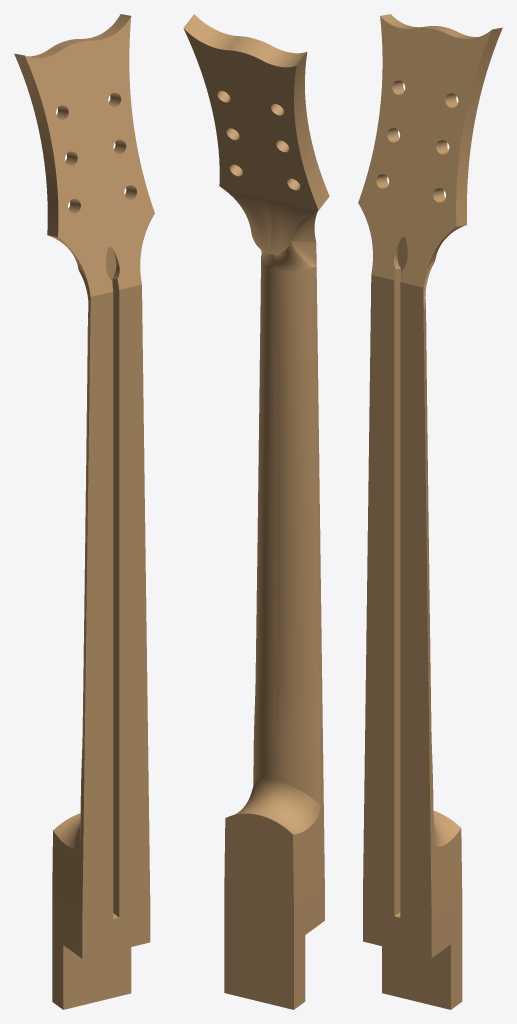
Rendered from oryx_neck.glb.
3 renders of one model, left to right at view 1: azimuth 30°, elevation 25°; view 2: azimuth 150°, elevation 25°; view 3: azimuth 330°, elevation 25°, orthographic. The views are drawn at different scales.
Parts seen in each view (by area): view 1: oryx_neck; view 2: oryx_neck; view 3: oryx_neck.
Part boxes in pixels (x1=…): oryx_neck: x1=14, y1=14, x2=154, y2=1009; oryx_neck: x1=183, y1=14, x2=329, y2=1009; oryx_neck: x1=358, y1=14, x2=502, y2=1009.
Size of the model in its own units: 0.0889 by 0.7493 by 0.0709.
